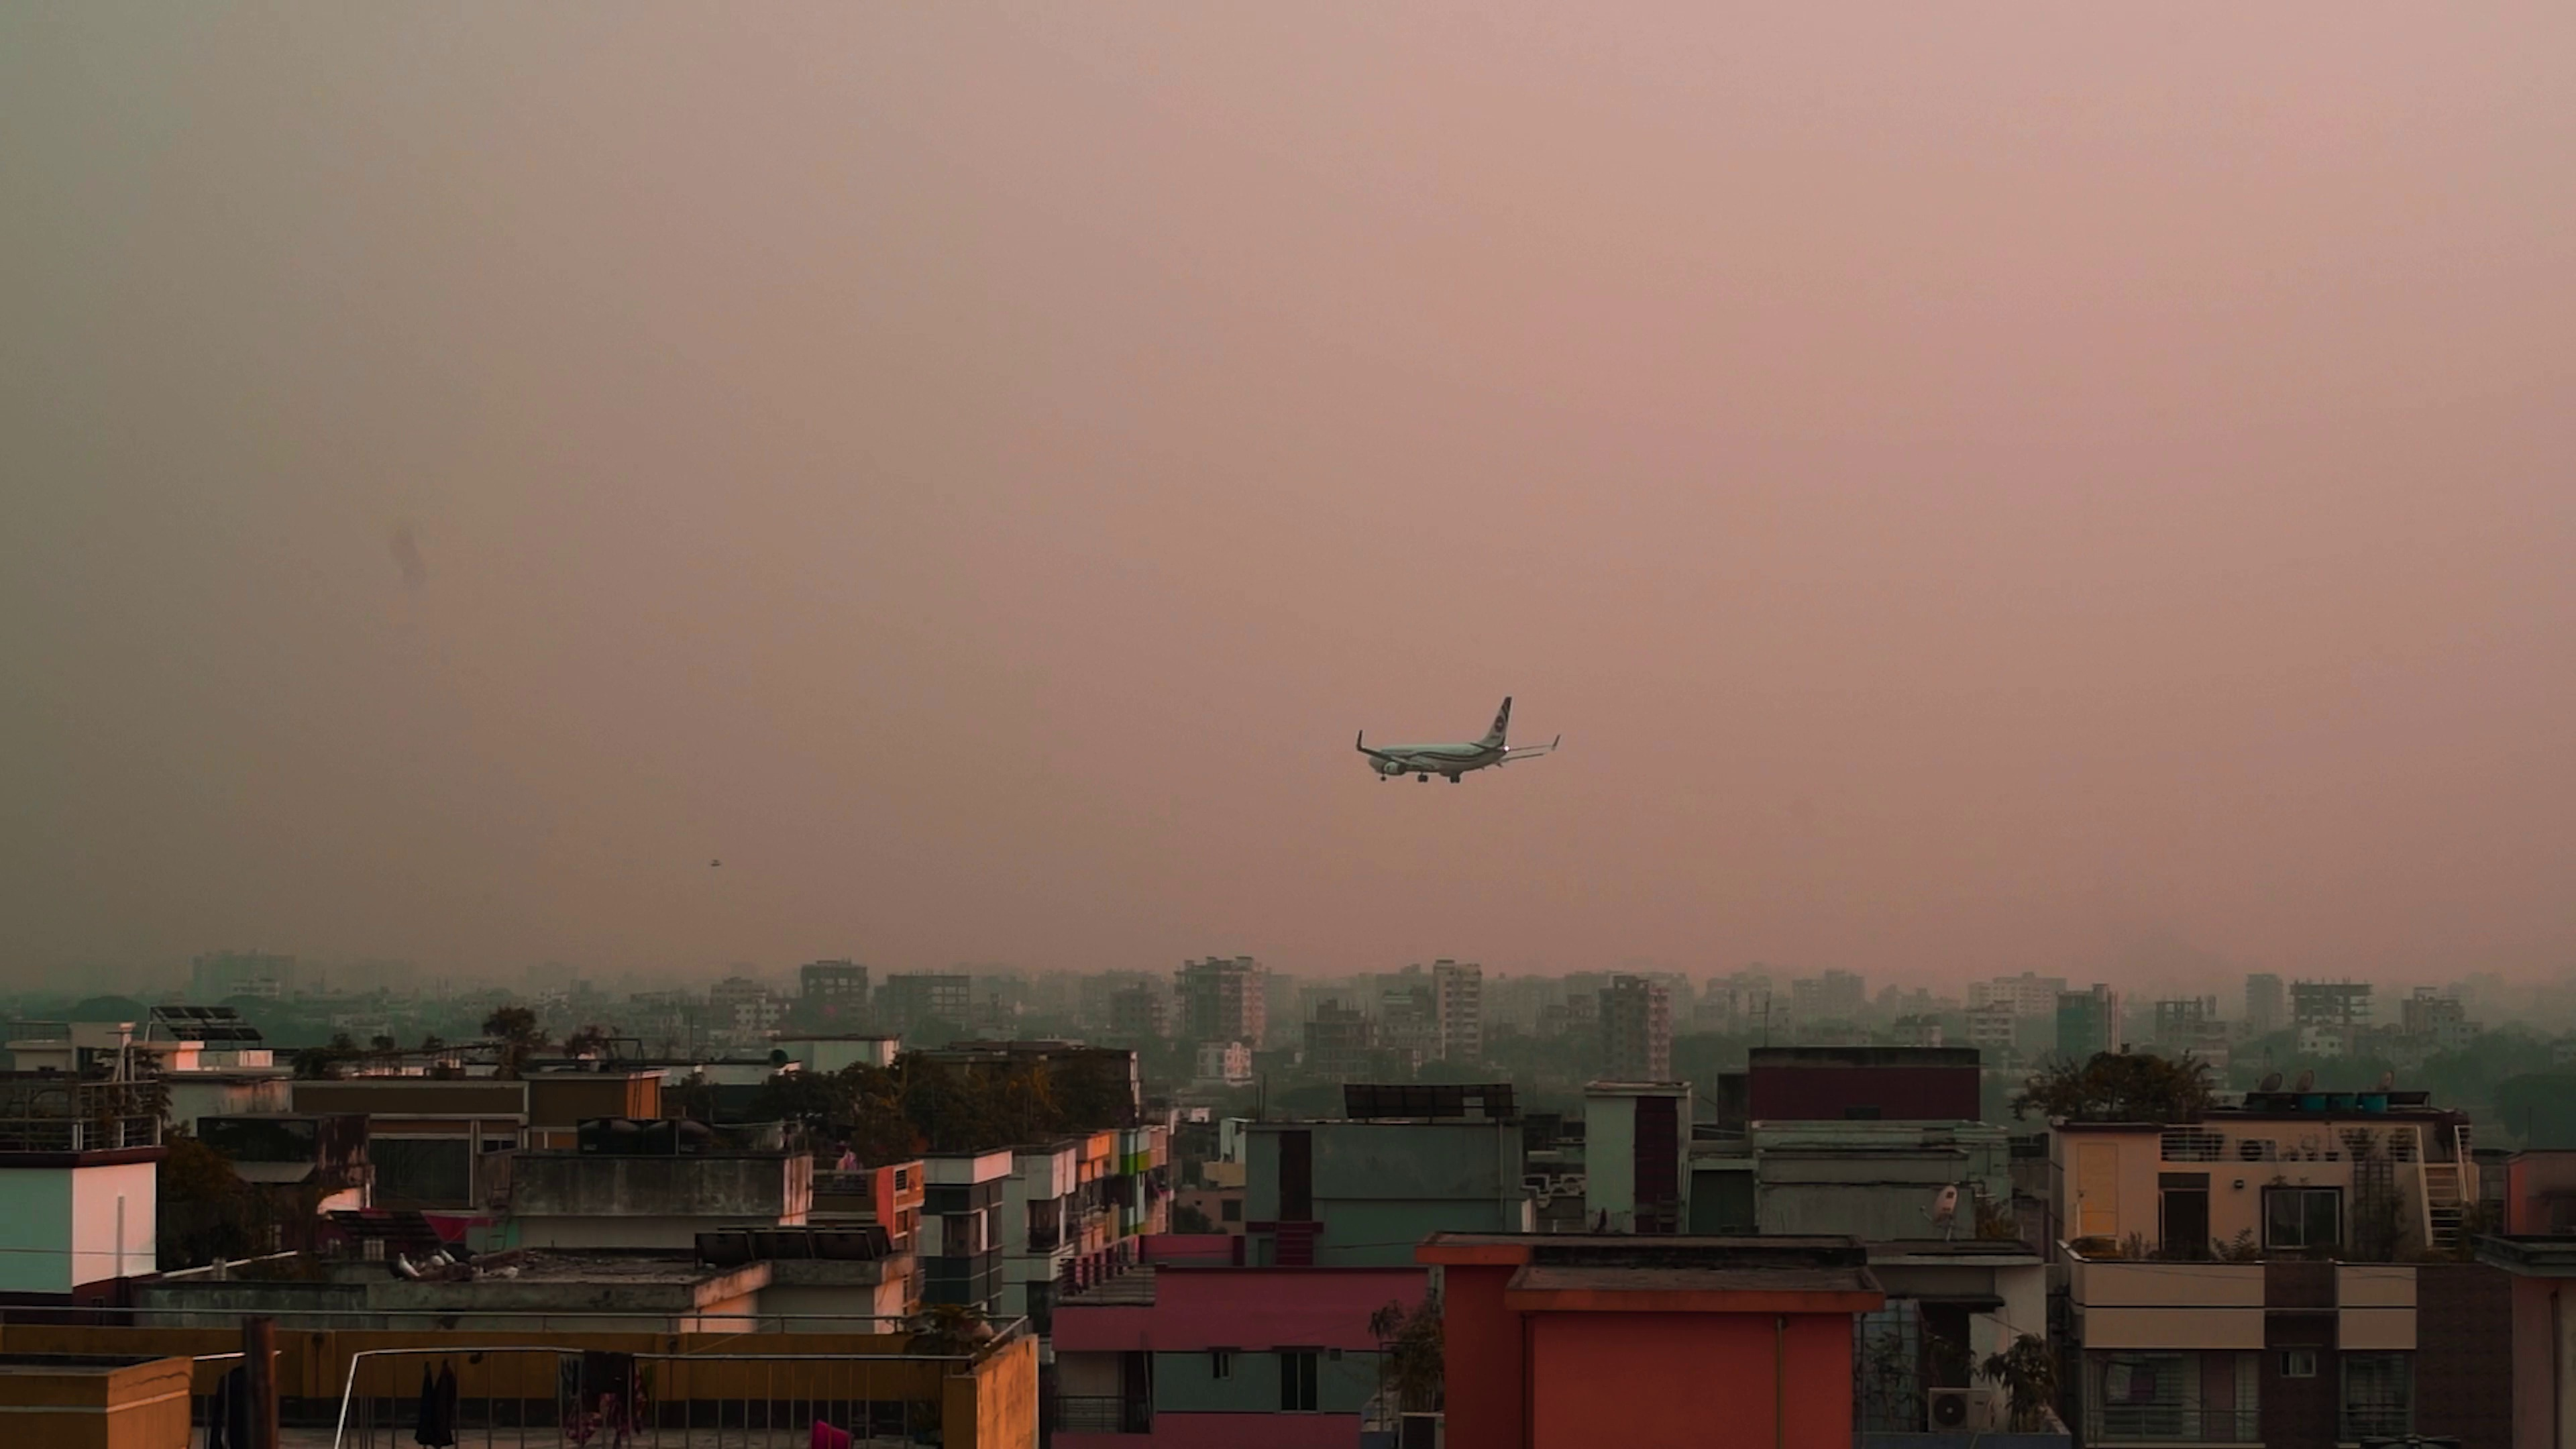plane: (1355, 694, 1560, 782)
